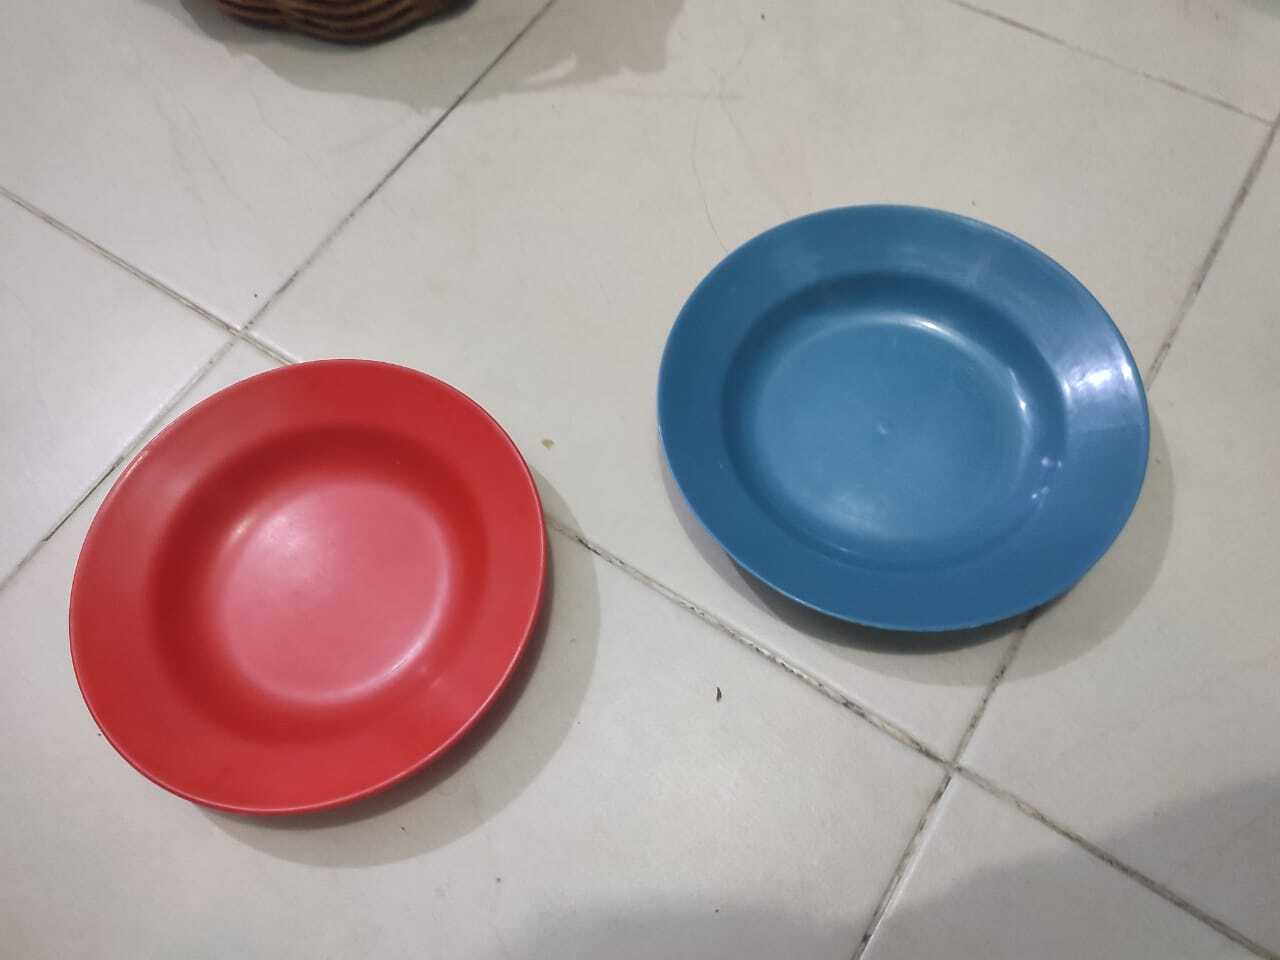piring: (653, 196, 1150, 643), (66, 356, 551, 806)
